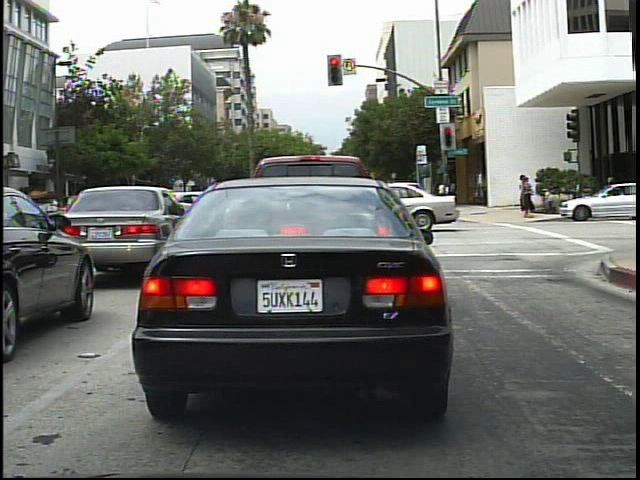person: (519, 175, 539, 222), (521, 174, 537, 220)
